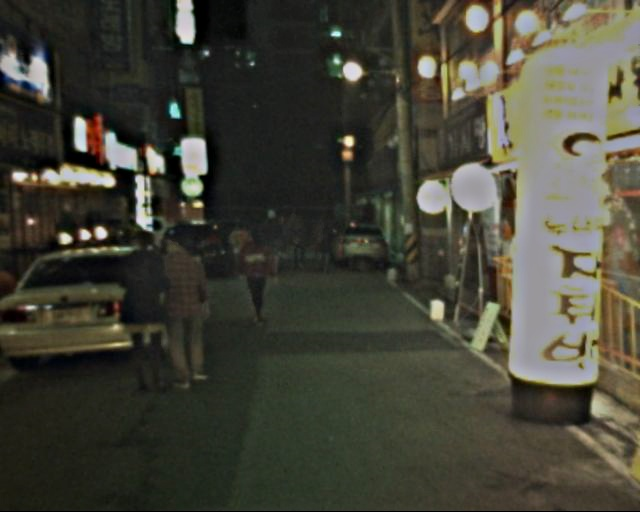person: (115, 225, 178, 399), (157, 224, 219, 396), (236, 223, 277, 326), (261, 199, 291, 279), (229, 216, 260, 286), (281, 213, 304, 278), (315, 216, 338, 275)
